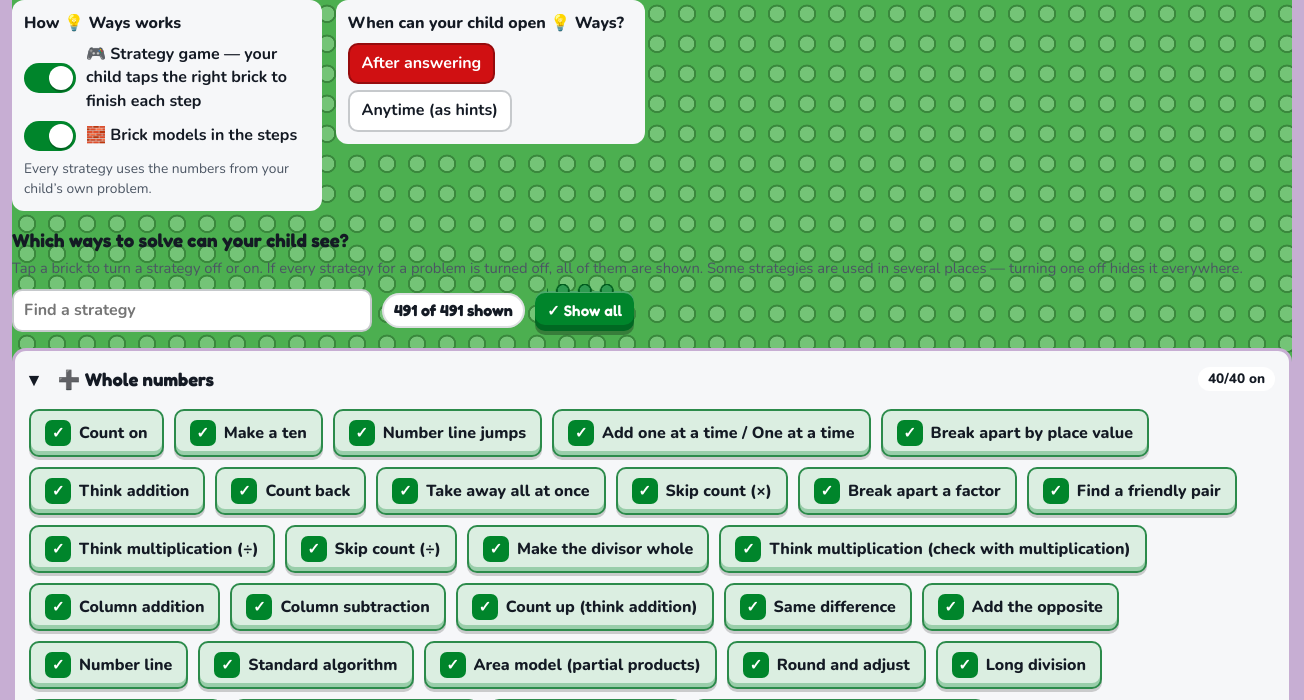
Test: 🧩 StrategiesSection › toggling a strategy chip stores its id in settings.strategies.hidden; Show all resets
Click the button "✓ Count on". click: (96, 433)
box: [29, 409, 164, 457]
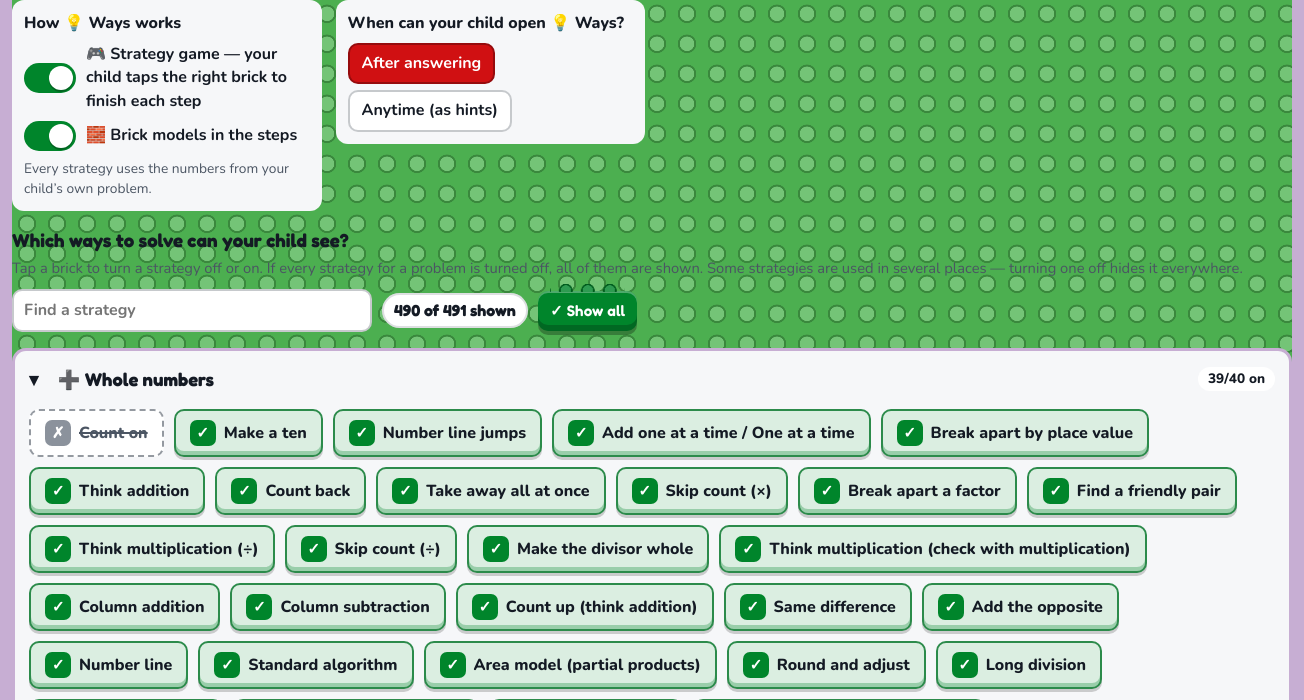
Result: the button "✗ Count on" is not pressed
Click the button "✗ Count on". click: (96, 433)
box: [29, 409, 164, 457]
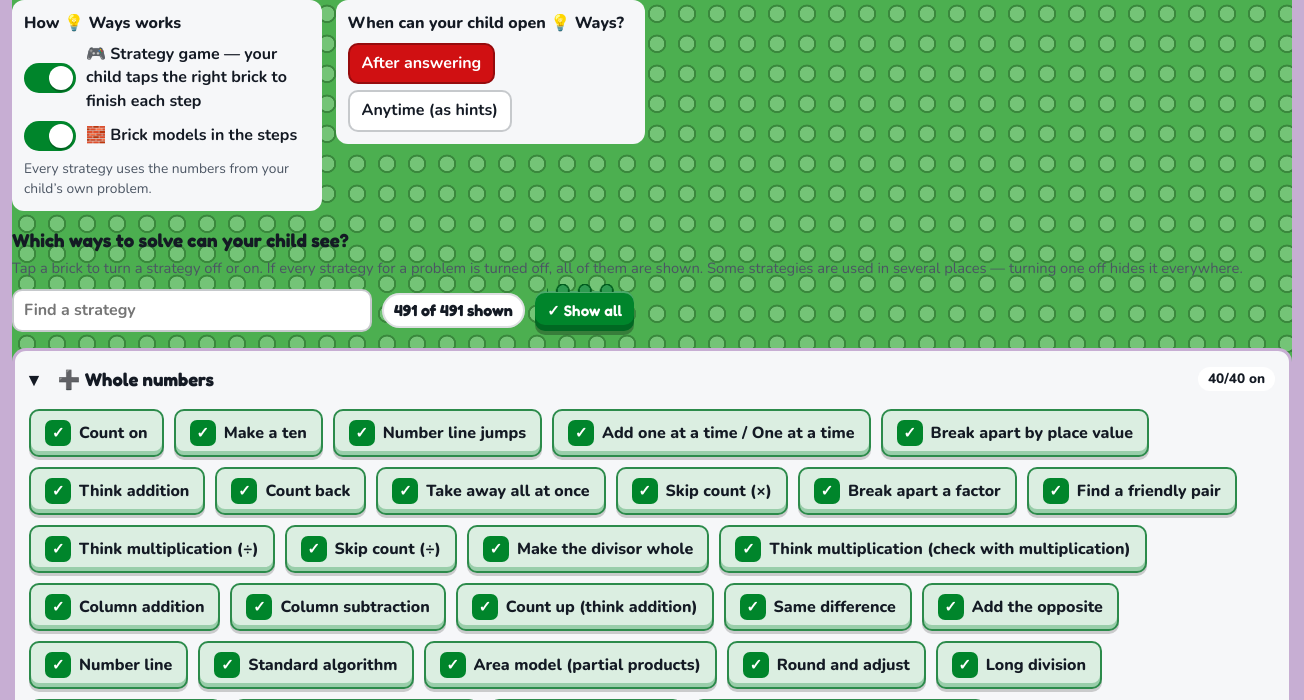
Click the button "✓ Count on". click: (96, 433)
box: [29, 409, 164, 457]
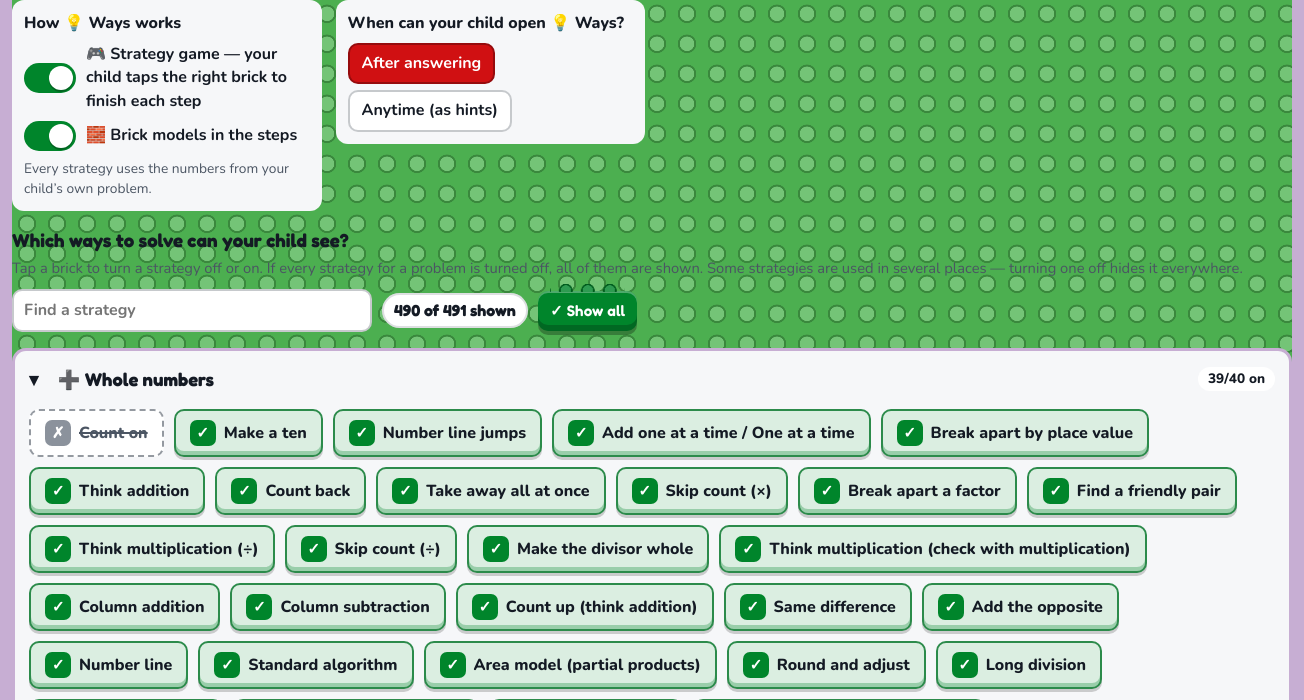
Result: the button "✓ Show all" is enabled
Click the button "✓ Show all". click: (588, 311)
box: [538, 291, 637, 331]
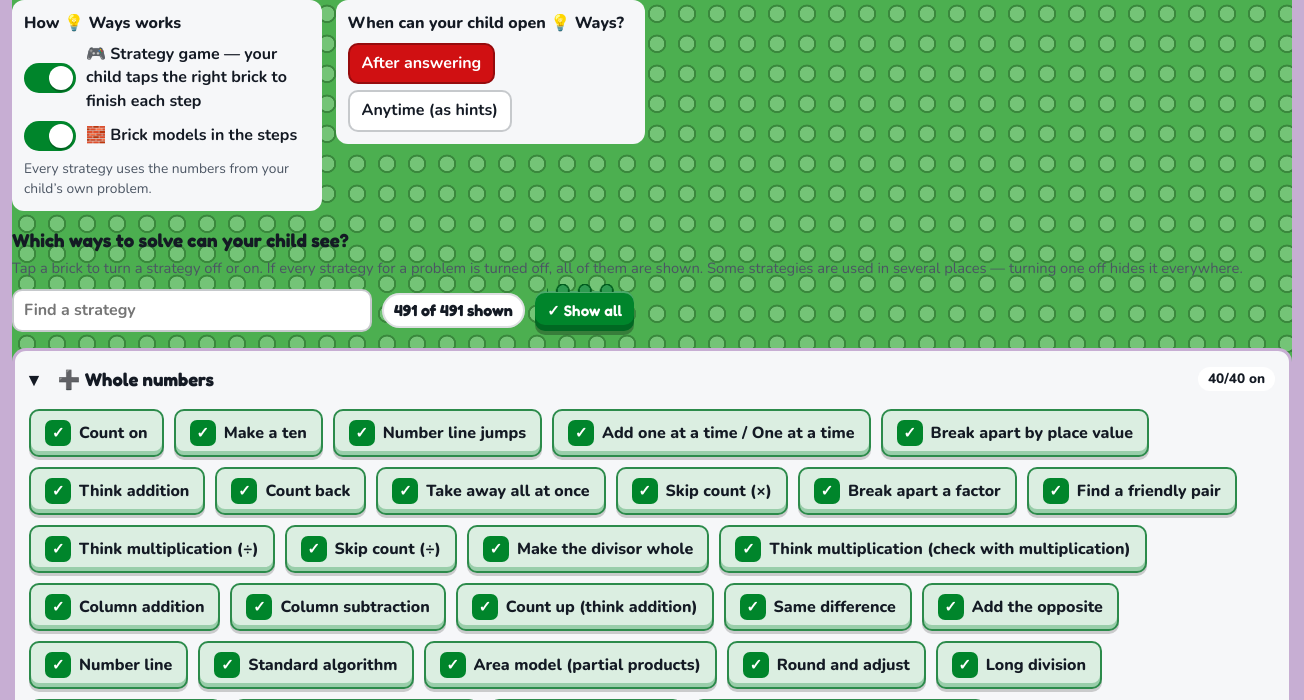
Result: the button "✓ Show all" is enabled at [535, 291, 634, 331]
